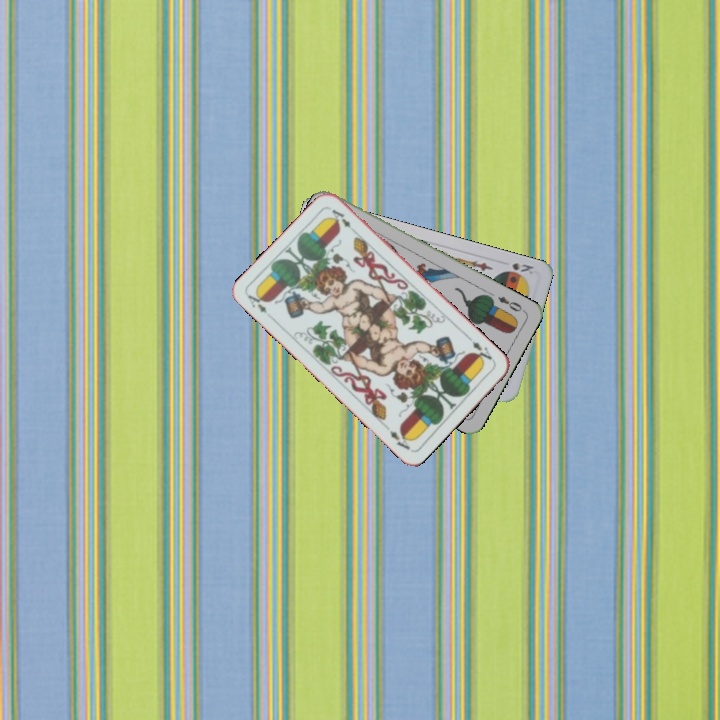EA: (244, 288, 276, 322), (468, 338, 497, 366)
EO: (494, 292, 527, 314)
SK: (508, 258, 537, 277)
